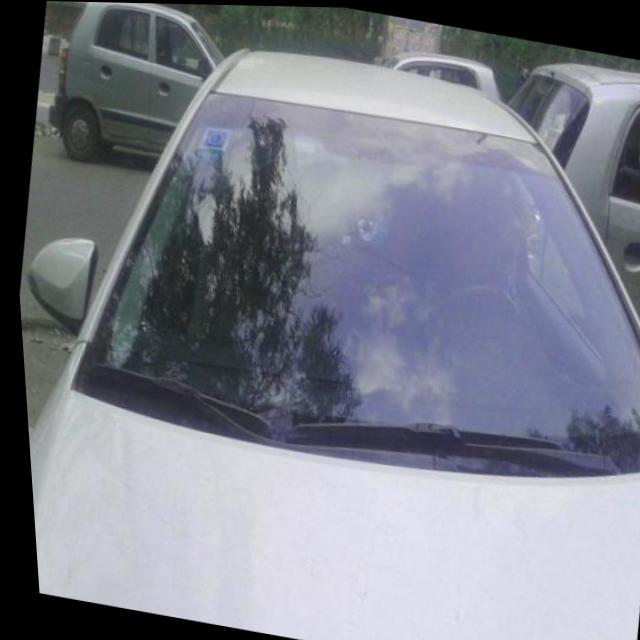Car-Damage: (326, 201, 385, 269)
